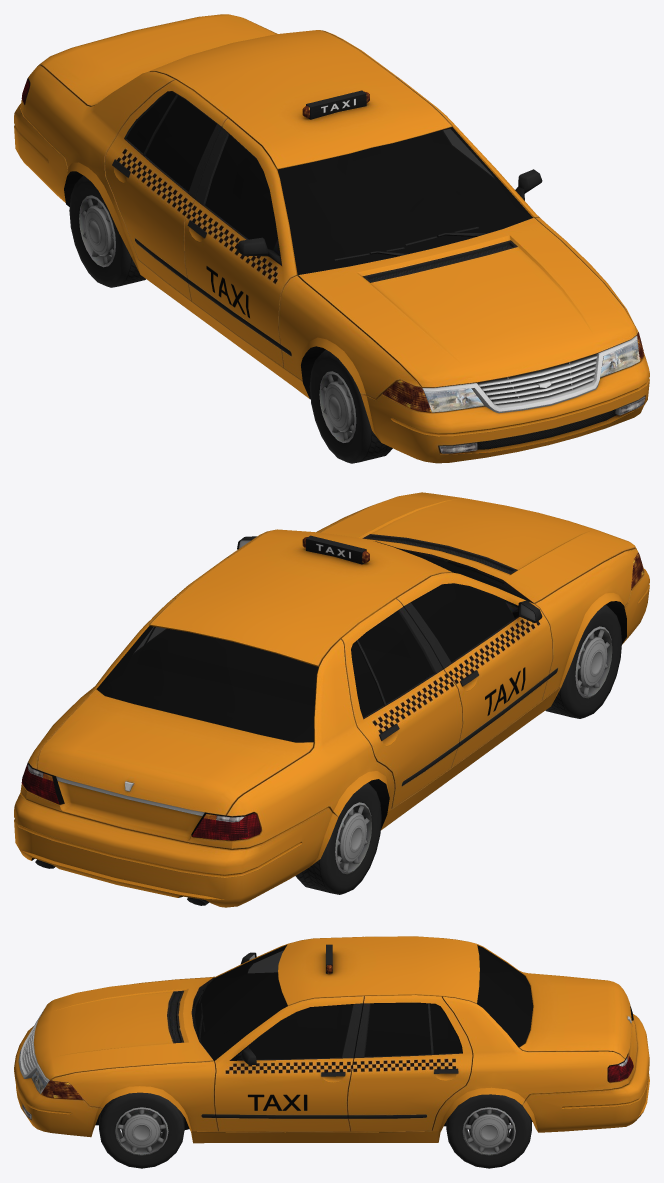
File: taxi.glb
The picture shows the model from 3 angles, top to bottom: view 1: azimuth 30°, elevation 25°; view 2: azimuth 150°, elevation 25°; view 3: azimuth 270°, elevation 25°; orthographic projection. The views are drawn at different scales.
Visible parts, largest first — view 1: taxi_taxi_0, taxi_taxi_glass_0, taxi_taxi_optics_0; view 2: taxi_taxi_0, taxi_taxi_glass_0, taxi_taxi_optics_0; view 3: taxi_taxi_0, taxi_taxi_glass_0, taxi_taxi_optics_0, taxi_taxi_decal_0.
Part boxes in pixels (x1,y1,x2,y2): taxi_taxi_0: (14,14,649,463); taxi_taxi_glass_0: (126,92,532,275); taxi_taxi_optics_0: (21,78,645,453); taxi_taxi_0: (14,492,649,907); taxi_taxi_glass_0: (96,541,524,742); taxi_taxi_optics_0: (21,537,643,840); taxi_taxi_0: (14,936,649,1168); taxi_taxi_glass_0: (194,945,533,1060); taxi_taxi_optics_0: (22,965,633,1118); taxi_taxi_decal_0: (248,1094,307,1110).
Bounding box in the file's own units: 1.85 × 1.39 × 4.7.
4 materials, 4 textured.
